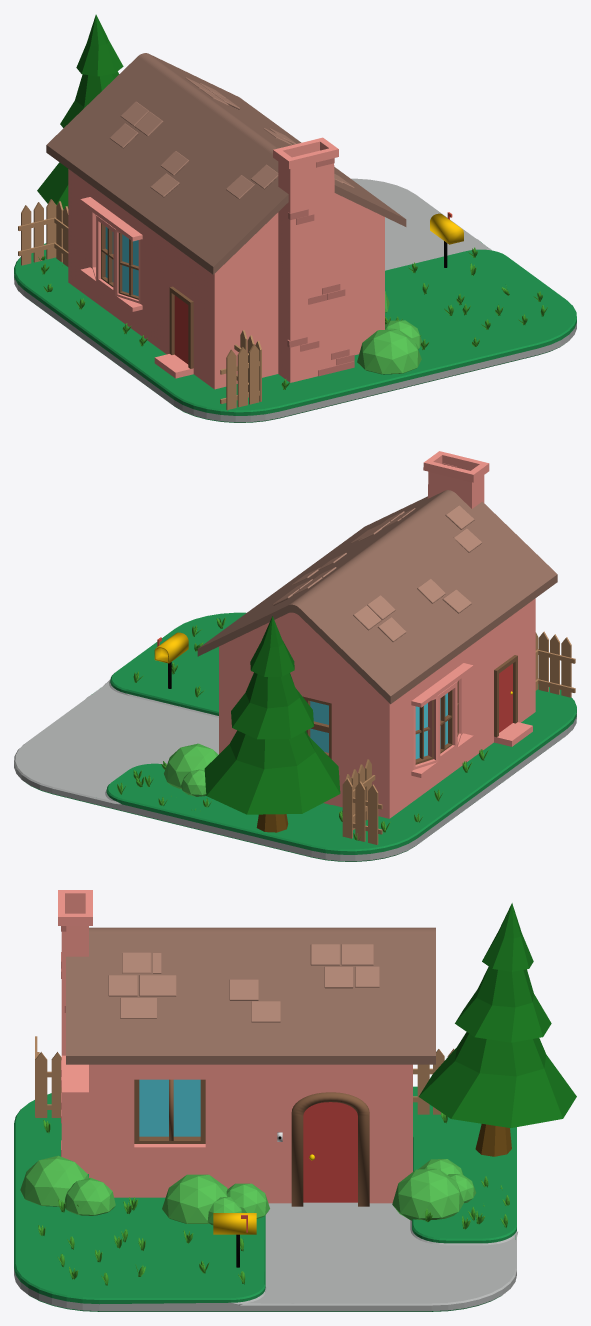
Rendered from house2.gltf.
3 views of the same model, one above another, from view 1: azimuth 30°, elevation 25°; view 2: azimuth 150°, elevation 25°; view 3: azimuth 270°, elevation 25° (orthographic). The views are drawn at different scales.
Parts seen in each view (by area): view 1: Plane.002; view 2: Plane.002; view 3: Plane.002.
Part boxes in pixels (x1,y1,x2,y2): Plane.002: (14, 14, 576, 422); Plane.002: (14, 451, 576, 861); Plane.002: (14, 890, 576, 1311).
Size of the model in its own units: 12.39 by 7.11 by 13.85.
